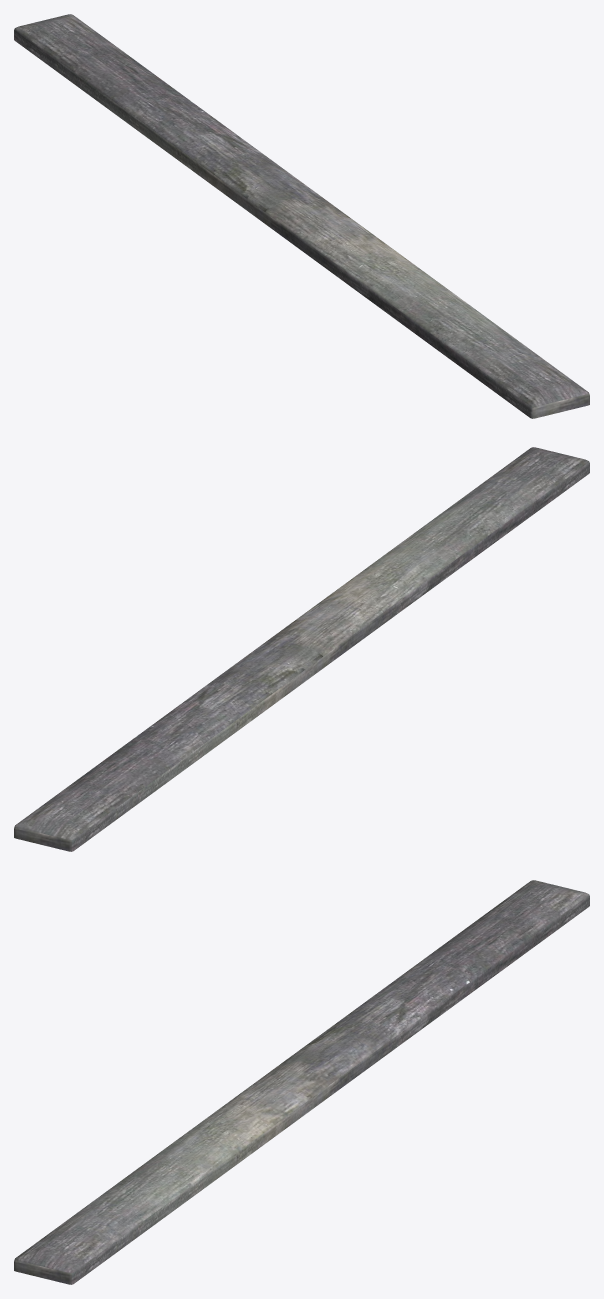
Rendered from Doorsill.FBX.
3 renders of one model, top to bottom at view 1: azimuth 30°, elevation 25°; view 2: azimuth 150°, elevation 25°; view 3: azimuth 330°, elevation 25°, orthographic.
Parts seen in each view (by area): view 1: Doorsill; view 2: Doorsill; view 3: Doorsill.
Part boxes in pixels (left/top/right/bottom): Doorsill: left=14, top=14, right=589, bottom=418; Doorsill: left=14, top=447, right=589, bottom=851; Doorsill: left=14, top=880, right=589, bottom=1284.
Bounding box in the file's own units: 2.12 × 0.6047 × 32.21.
